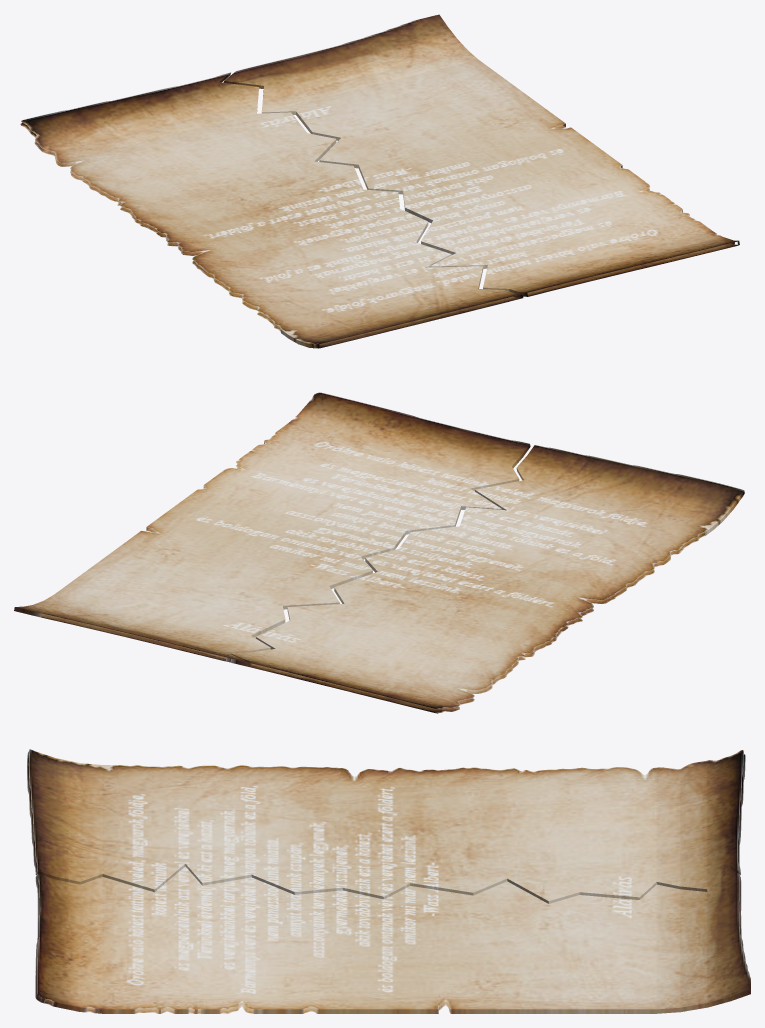
The model's file is torn_pieces.fbx.
The picture shows the model from 3 angles, top to bottom: view 1: azimuth 30°, elevation 25°; view 2: azimuth 150°, elevation 25°; view 3: azimuth 270°, elevation 25°; orthographic projection. The views are drawn at different scales.
Parts seen in each view (by area): view 1: Plane.001, Plane.002; view 2: Plane.002, Plane.001; view 3: Plane.001, Plane.002.
Boxes of the visible parts, box(x1,y1,x2,y2) form: Plane.001: box(223, 14, 739, 296); Plane.002: box(20, 72, 523, 348); Plane.002: box(230, 445, 744, 713); Plane.001: box(14, 392, 530, 662); Plane.001: box(35, 866, 750, 1013); Plane.002: box(27, 749, 745, 903).
Bounding box in the file's own units: 29.3 × 1.47 × 37.33.
1 material, 1 textured.
